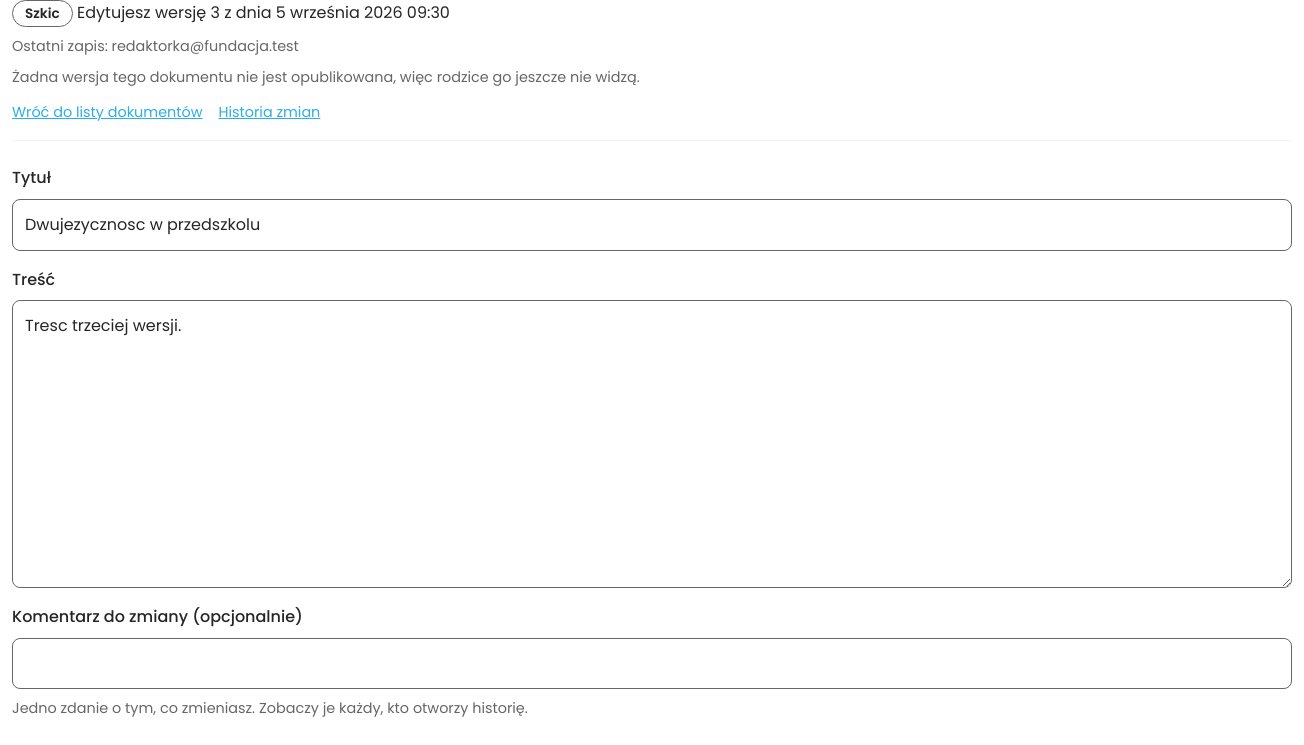
Test: DocumentEditor › keeps the typed text when somebody else saved first
Replace the text in the text box labelled "Treść" with "Tresc ktorej nie wolno zgubic." at (652, 444), box [12,300,1292,588]
(page scrolled)
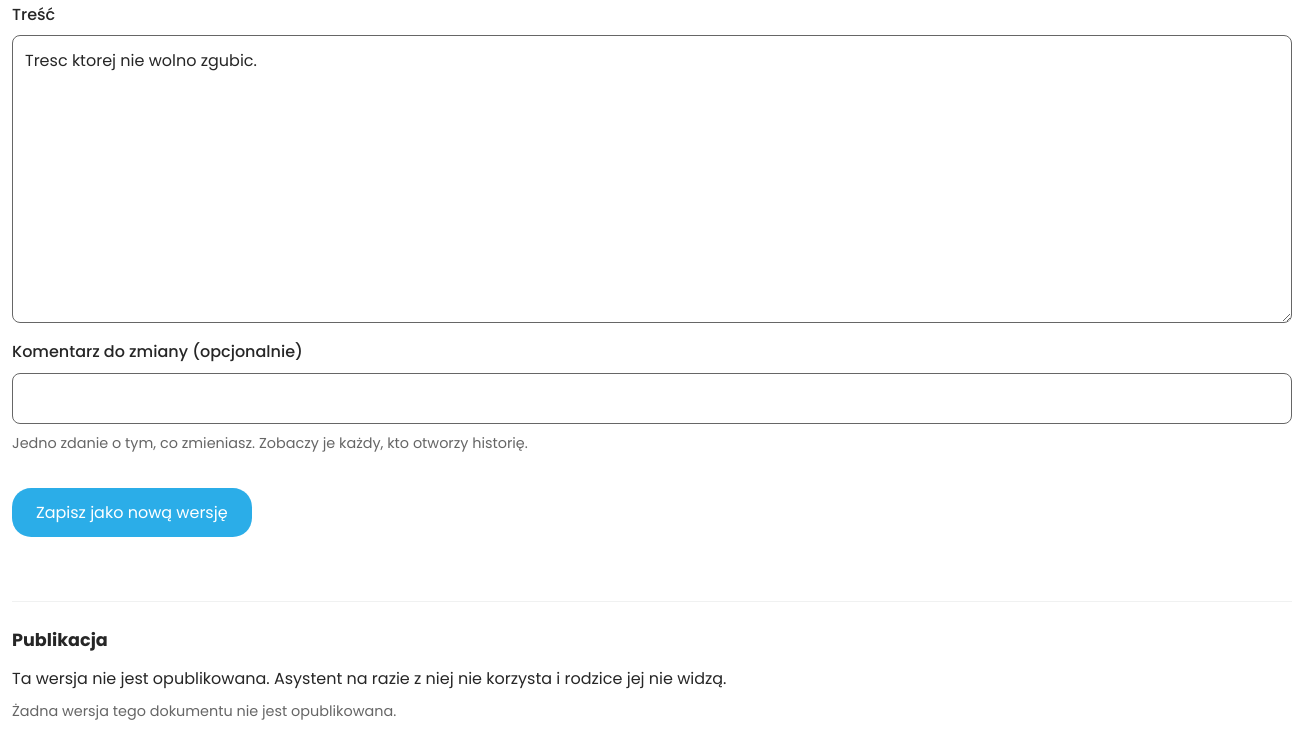
Click the button "Zapisz jako nową wersję" at (132, 512), box [12,488,252,537]
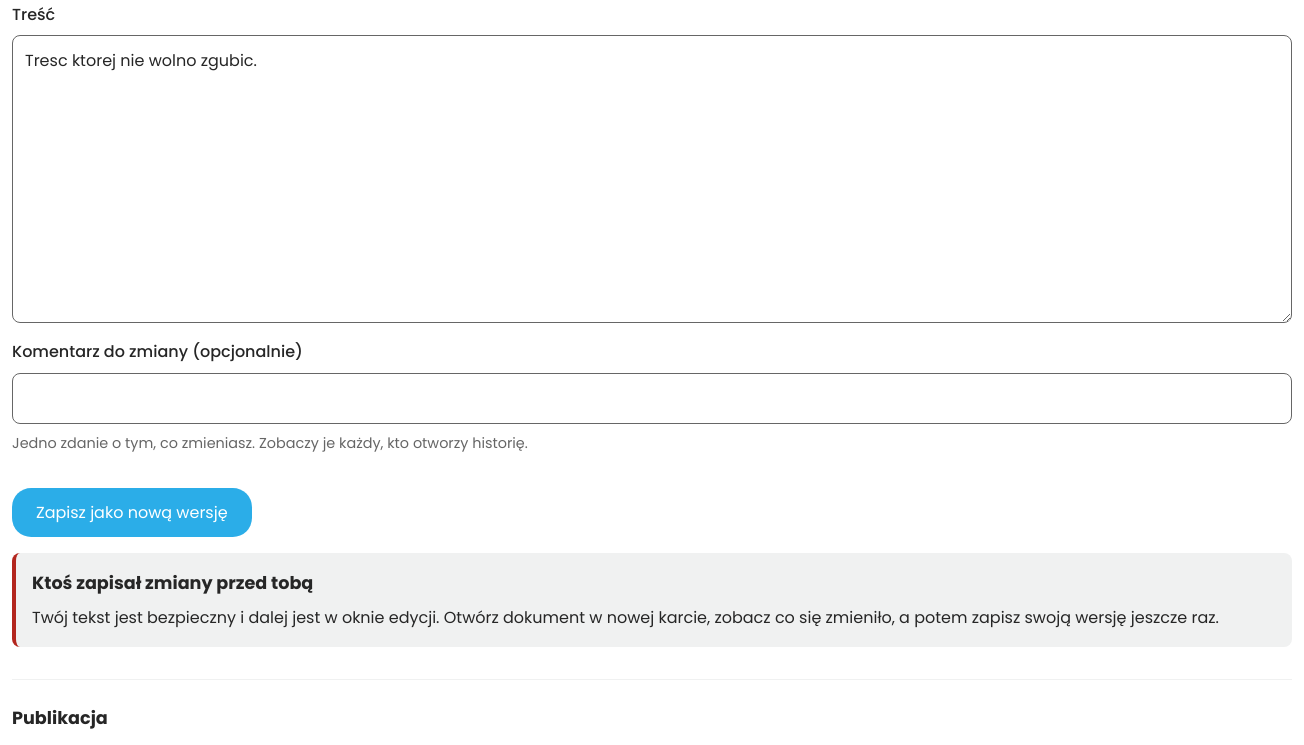
Now the heading "Ktoś zapisał zmiany przed tobą" is shown, box [32,571,313,595]
